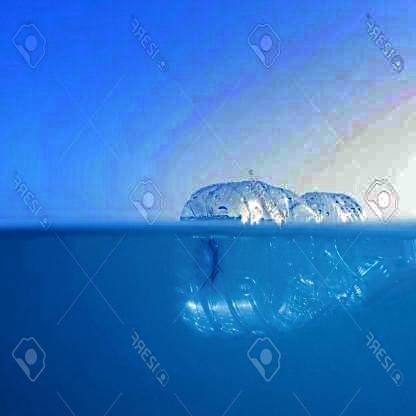pbottle: (160, 166, 416, 348)
